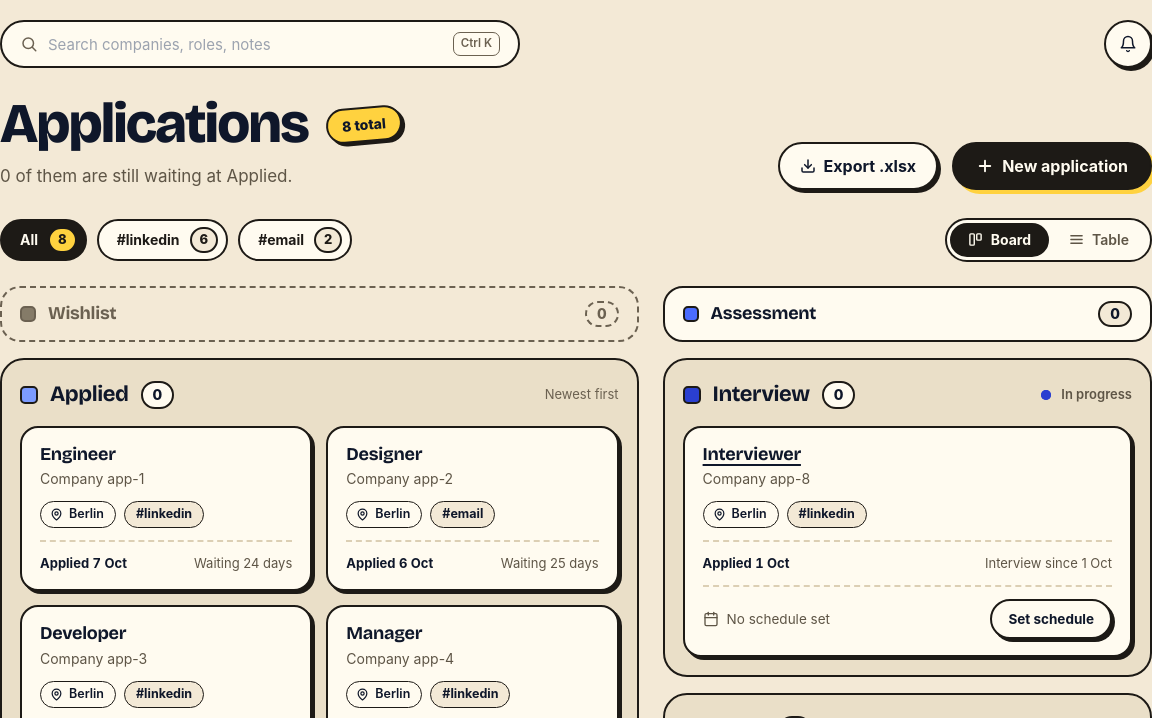
Scenario: Applications list › sends the debounced search query and shows only matching cards
Expected: the link "Engineer" is shown, top-left (20, 426), bottom-right (312, 591)
In the field named "Search companies, roles, notes": x=245, y=44 top-left (48, 22), bottom-right (443, 66), type "Designer"
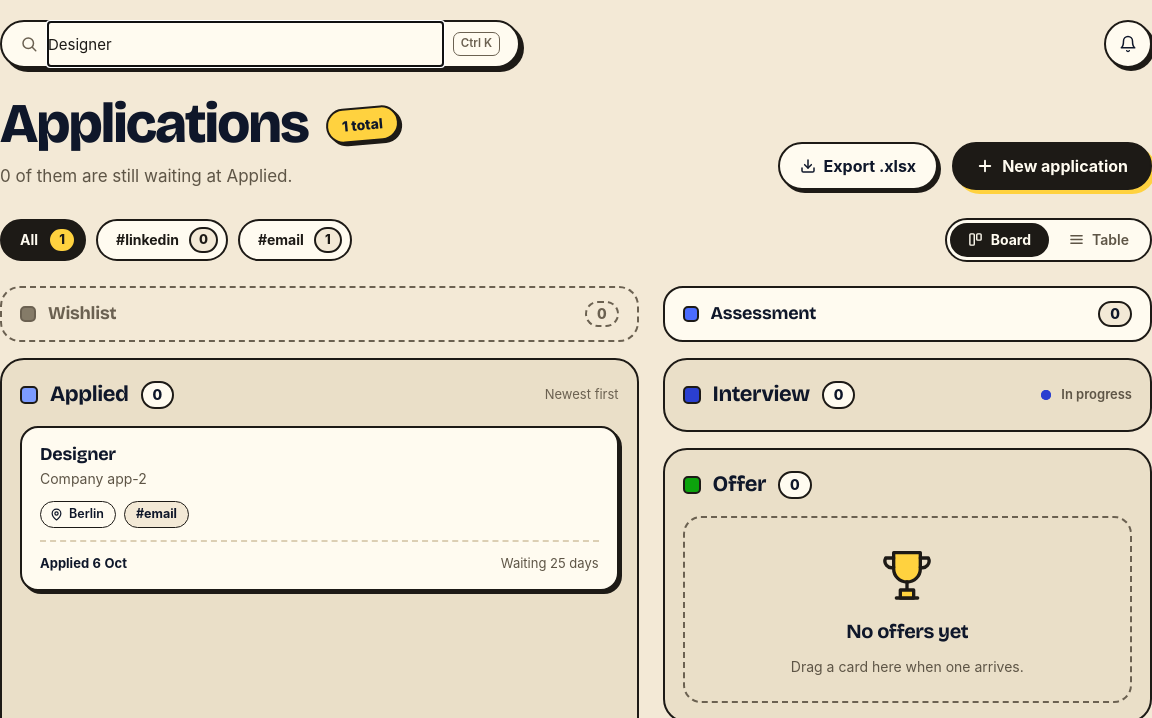
Expected: the link "Designer" is shown, top-left (20, 426), bottom-right (619, 591)
Expected: the link "Engineer" is gone
